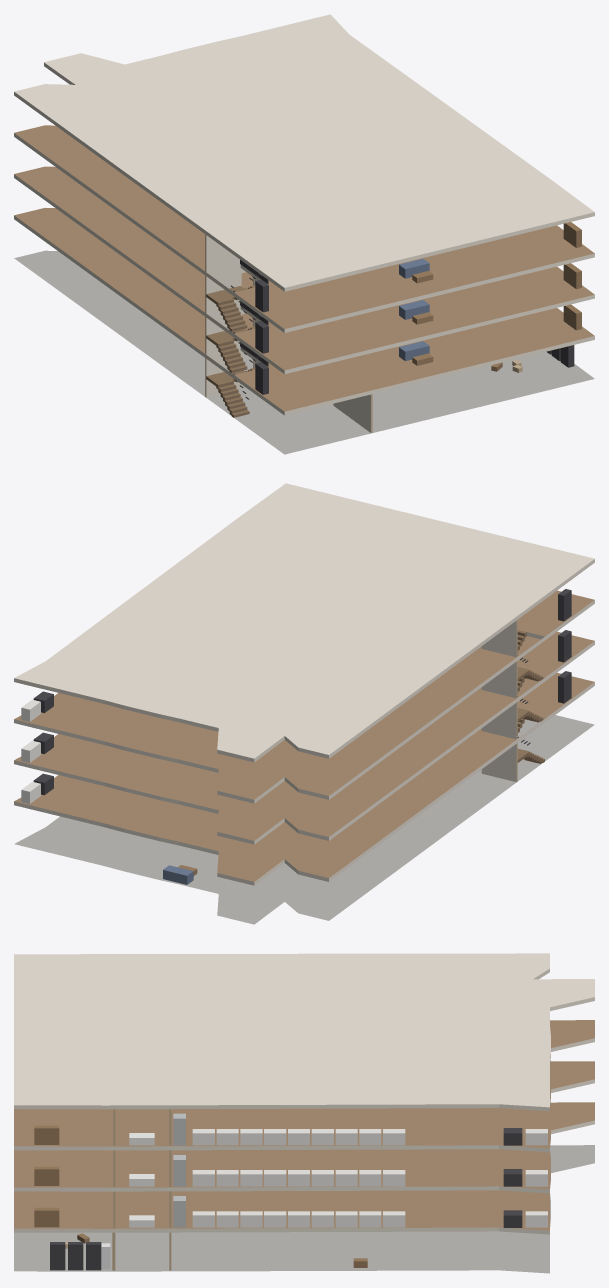
Rendered from interior.glb.
3 renders of one model, top to bottom at view 1: azimuth 30°, elevation 25°; view 2: azimuth 150°, elevation 25°; view 3: azimuth 270°, elevation 25°, orthographic.
Visible parts, largest first — view 1: slabs, partitions, stair, coarse-s2, coarse-s1, coarse-s3, coarse-s0; view 2: slabs, partitions, stair, coarse-s3, coarse-s1, coarse-s2; view 3: slabs, coarse-s1, coarse-s3, coarse-s2, coarse-s0, partitions.
Part boxes in pixels (box(x1,y1,x2,y2)): slabs: box(14, 14, 594, 454); partitions: box(205, 234, 372, 432); stair: box(206, 260, 268, 417); coarse-s2: box(255, 263, 581, 353); coarse-s1: box(255, 304, 581, 394); coarse-s3: box(255, 222, 581, 312); coarse-s0: box(491, 345, 574, 372); slabs: box(14, 483, 594, 924); partitions: box(481, 620, 517, 781); stair: box(517, 630, 544, 763); coarse-s3: box(21, 589, 571, 721); coarse-s1: box(21, 671, 571, 803); coarse-s2: box(21, 630, 571, 762); slabs: box(14, 953, 594, 1273); coarse-s1: box(34, 1196, 547, 1227); coarse-s3: box(34, 1113, 547, 1145); coarse-s2: box(34, 1155, 547, 1186); coarse-s0: box(50, 1233, 367, 1270); partitions: box(112, 1109, 171, 1270).
Bounding box in the file's own units: 22.21 × 11.2 × 35.43.
